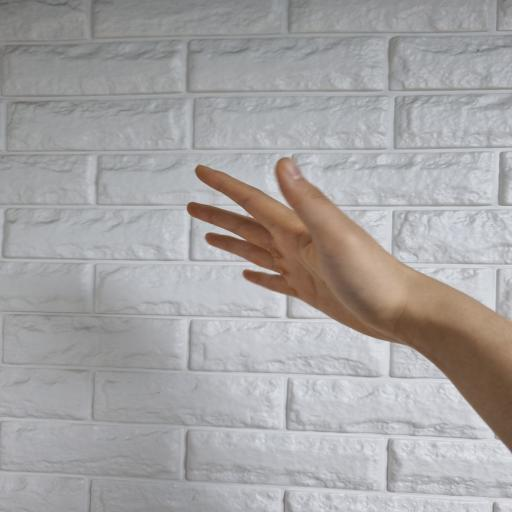Paper: (186, 156, 511, 454)
